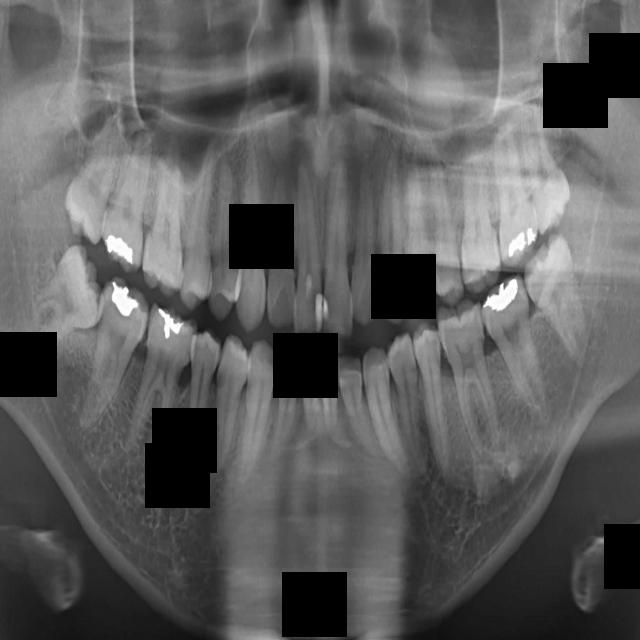3M ESPE Implant: (55, 98, 130, 246)
AGS Medikal Implant: (349, 155, 377, 326)
AMerOss Implant: (379, 144, 410, 328)
Amalgam filling: (398, 160, 437, 314)
Anthogyr Implant: (419, 147, 467, 303)
Bicon Implant: (450, 137, 503, 294)
BioHorizons Implant: (490, 119, 539, 267)
BioLife Implant: (512, 93, 578, 237)
Biomet 3i Implant: (514, 229, 600, 377)
Blue Sky Bio Implant: (545, 414, 545, 415)
Camlog Implant: (433, 295, 505, 466)
Caries: (98, 123, 154, 276)
Composite filling: (409, 319, 464, 492)
Cowellmedi Implant: (383, 331, 443, 487)
Crown: (354, 343, 415, 487)
DENTSPLY Implant: (332, 347, 384, 467)
Dentatus Implant: (309, 353, 357, 459)
Dentis Implant: (296, 351, 327, 449)
Dentium Implant: (271, 347, 303, 461)
Euroteknika Implant: (234, 338, 280, 496)
Filling: (191, 331, 255, 499)
Frontier Implant: (169, 325, 224, 499)
Hiossen Implant: (140, 155, 191, 298)
Implant: (76, 273, 155, 441)
Implant Direct: (119, 300, 200, 471)
Keystone Dental Implant: (18, 240, 110, 349)
MIS Implant: (177, 136, 224, 315)
Mandible: (206, 154, 245, 322)
Maxilla: (233, 118, 277, 334)
Megagen Implant: (265, 163, 302, 329)
Neodent Implant: (293, 161, 325, 339)
Neoss Implant: (323, 151, 357, 339)
